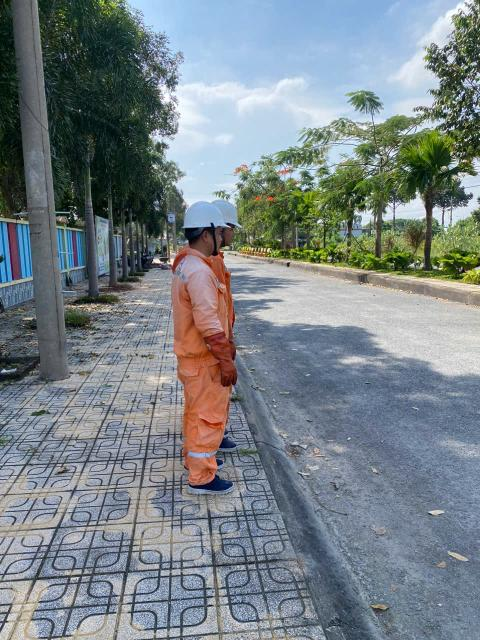gloves: (193, 323, 246, 385), (227, 318, 255, 358)
helmet: (208, 193, 267, 237), (174, 202, 233, 232)
shoes: (178, 474, 243, 495), (201, 436, 251, 454), (170, 458, 230, 472), (210, 417, 244, 441)
